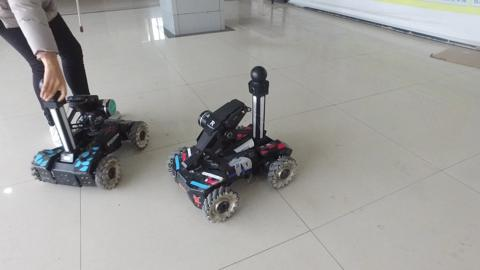chariot: (170, 62, 300, 228), (27, 73, 154, 200)
